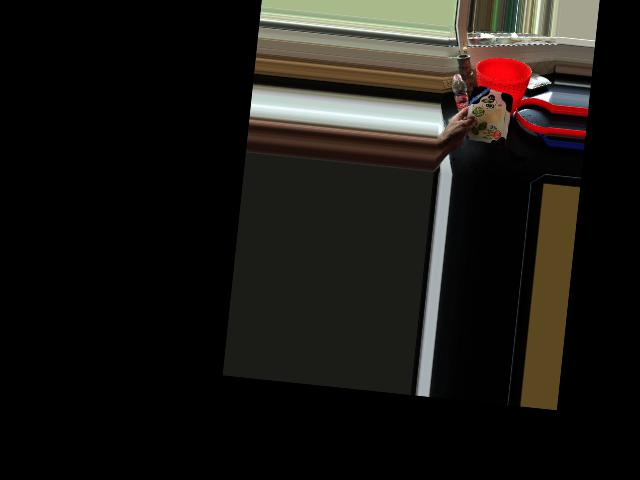cheese: (454, 83, 513, 140)
